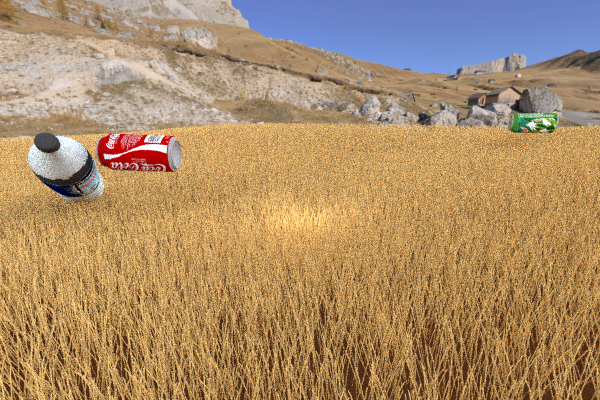bottle: (28, 132, 104, 204)
can: (95, 133, 181, 172), (507, 113, 558, 133)
